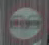No overtake: (3, 4, 47, 44)
